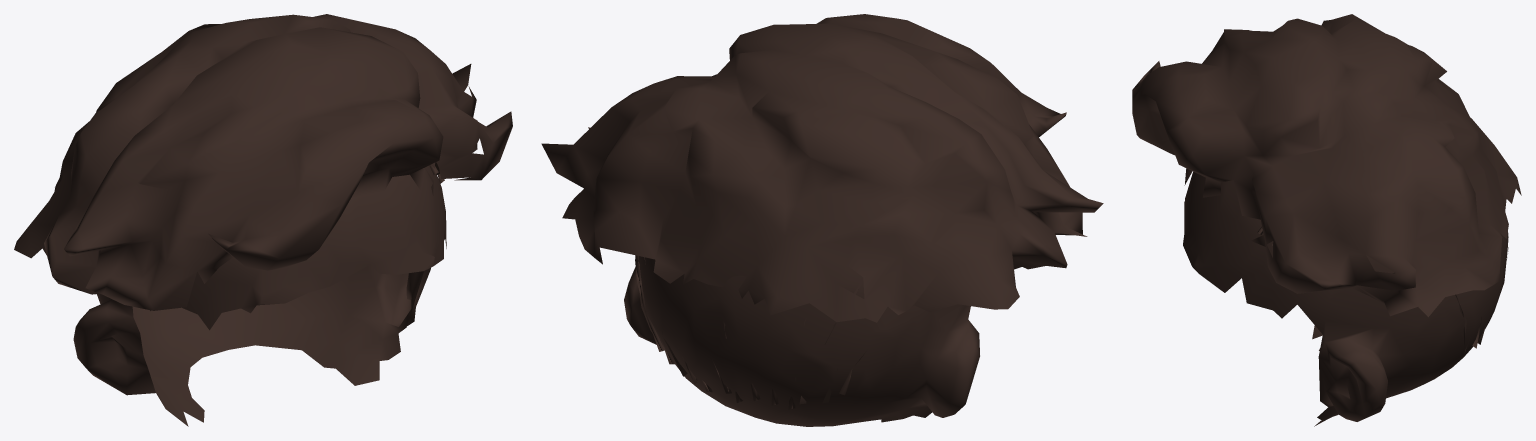
The model's file is waves.glb.
3 renders of one model, left to right at view 1: azimuth 30°, elevation 25°; view 2: azimuth 150°, elevation 25°; view 3: azimuth 270°, elevation 25°, orthographic. The views are drawn at different scales.
Visible parts, largest first — view 1: Hair, HairScalp; view 2: Hair, HairScalp, HairPulledRootStrands; view 3: Hair, HairScalp.
Part boxes in pixels (x1,y1,x2,y2): Hair: (14, 14, 512, 310); HairScalp: (73, 165, 446, 426); Hair: (541, 14, 1103, 322); HairScalp: (624, 256, 979, 426); HairPulledRootStrands: (635, 255, 866, 409); Hair: (1132, 14, 1521, 317); HairScalp: (1183, 172, 1508, 426).
Size of the model in its own units: 0.7086 by 0.5118 by 0.522.
